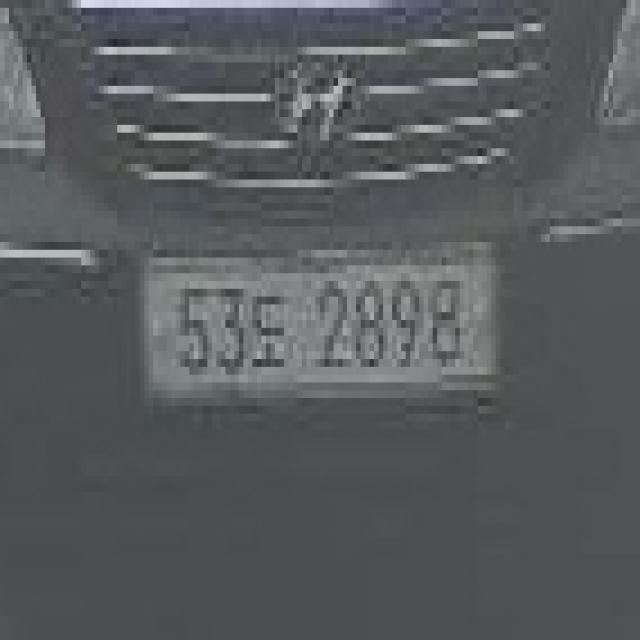2: (311, 273, 352, 383)
3: (212, 273, 243, 383)
5: (172, 281, 216, 390)
8: (424, 258, 473, 374), (356, 273, 388, 367)
9: (383, 266, 428, 382)
do: (239, 288, 288, 374)
license_plate: (131, 234, 509, 422)
